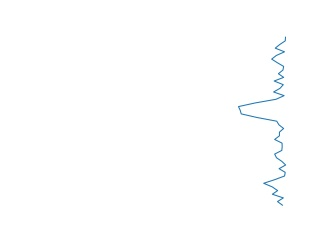interdistributaryEstuary: (234, 36, 293, 206)
